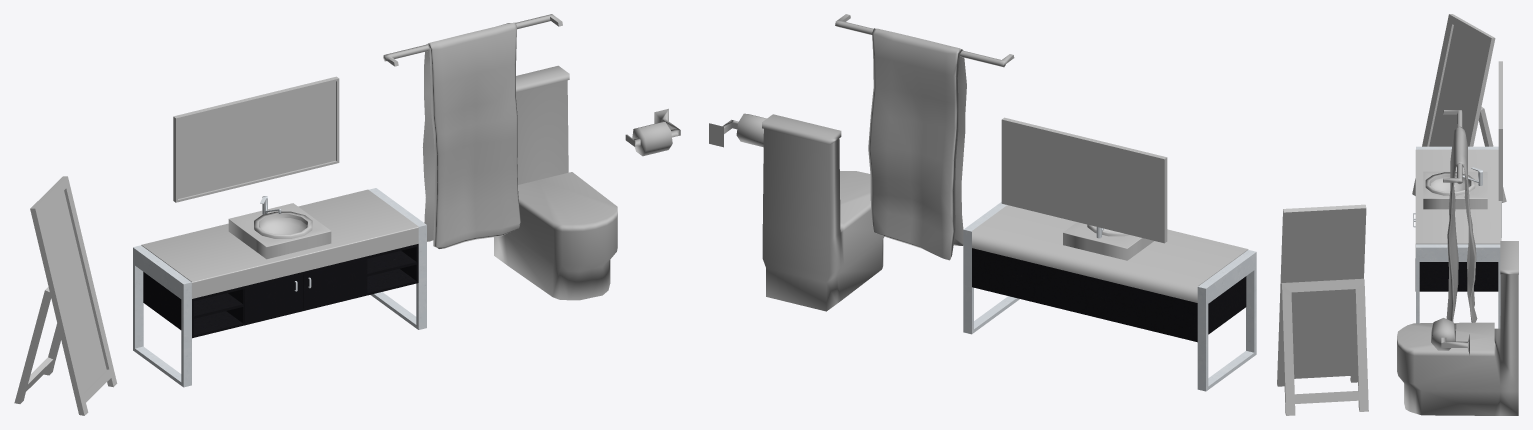
The model's file is Toilet Room.fbx.
The picture shows the model from 3 angles, left to right: view 1: azimuth 30°, elevation 25°; view 2: azimuth 150°, elevation 25°; view 3: azimuth 270°, elevation 25°; orthographic projection. The views are drawn at different scales.
Visible parts, largest first — view 1: BathroomSink_Top.002, Towel.001, Toilet, PFB_FreestandMirror.002, Toilet.001, Towel; view 2: BathroomSink_Top.002, Towel.001, Toilet, PFB_FreestandMirror.002, Toilet.001, Towel; view 3: Toilet, BathroomSink_Top.002, PFB_FreestandMirror.002, Towel.001, Toilet.001, Towel.
Part boxes in pixels (x1,y1,x2,y2): BathroomSink_Top.002: (133, 76, 426, 387); Towel.001: (422, 22, 520, 248); Toilet: (494, 65, 617, 300); PFB_FreestandMirror.002: (14, 176, 117, 415); Toilet.001: (625, 108, 680, 156); Towel: (383, 14, 562, 66); BathroomSink_Top.002: (963, 117, 1256, 391); Towel.001: (868, 28, 966, 260); Toilet: (762, 114, 884, 311); PFB_FreestandMirror.002: (1277, 204, 1368, 415); Toilet.001: (709, 113, 766, 147); Towel: (835, 14, 1014, 67); Toilet: (1397, 241, 1518, 415); BathroomSink_Top.002: (1413, 61, 1502, 328); PFB_FreestandMirror.002: (1412, 14, 1506, 202); Towel.001: (1446, 126, 1477, 322); Toilet.001: (1431, 318, 1469, 355); Towel: (1443, 110, 1462, 184).
Size of the model in its own units: 385 by 148 by 72.69.
